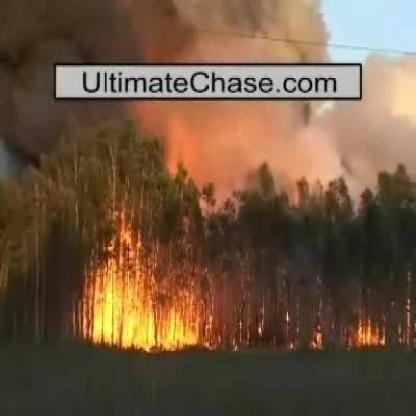-: (180, 105, 381, 163), (131, 5, 331, 58)
foggia-v2-map80-epoch100 - v1 4323: (94, 273, 158, 349)
